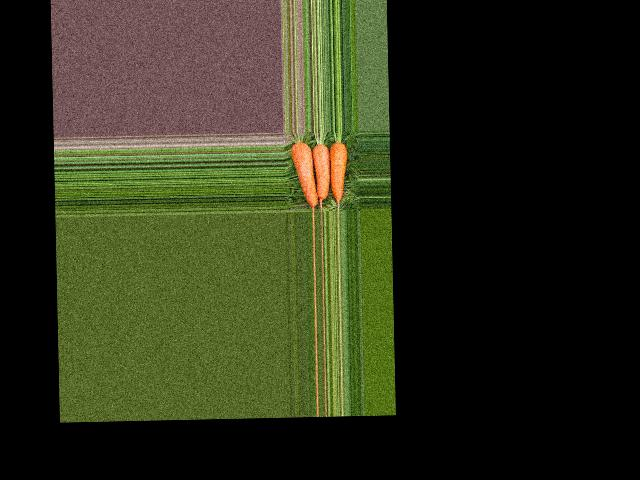carrot: (290, 141, 318, 207)
